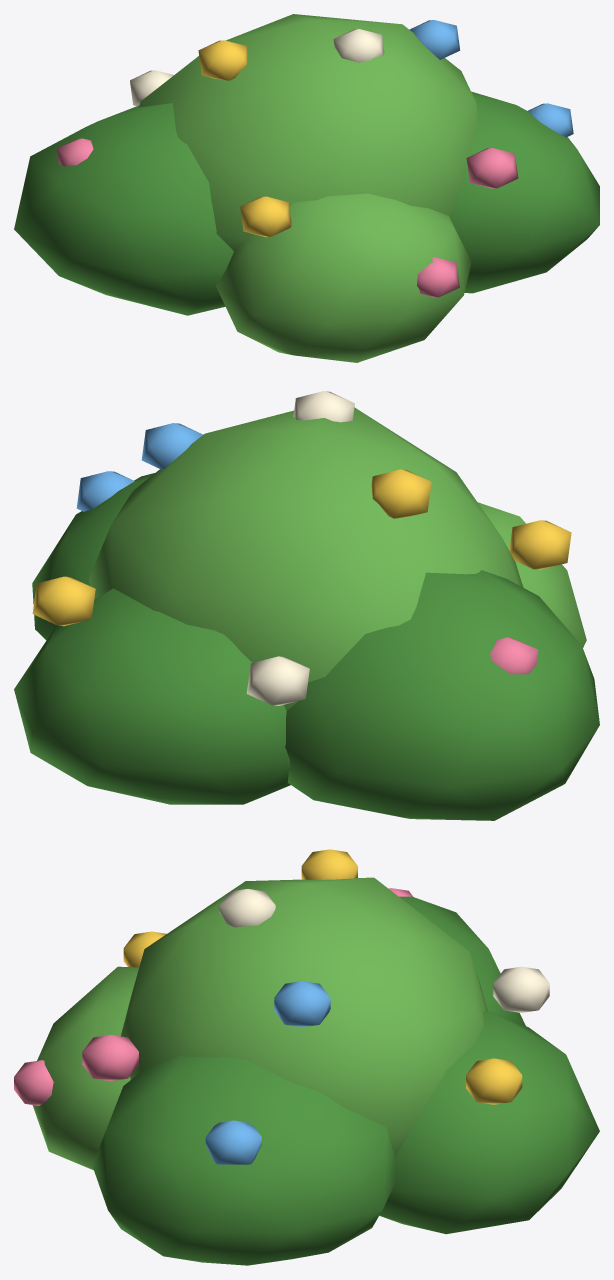
File: bush.glb
3 views of the same model, one above another, from view 1: azimuth 30°, elevation 25°; view 2: azimuth 150°, elevation 25°; view 3: azimuth 270°, elevation 25° (orthographic). The views are drawn at different scales.
Visible parts, largest first — view 1: Part_BushTop, Part_BushMid, Part_FlowerPink, Part_FlowerYellow, Part_FlowerBlue, Part_FlowerCream; view 2: Part_BushMid, Part_BushTop, Part_FlowerYellow, Part_FlowerCream, Part_FlowerBlue, Part_FlowerPink; view 3: Part_BushMid, Part_BushTop, Part_FlowerYellow, Part_FlowerBlue, Part_FlowerCream, Part_FlowerPink.
Boxes of the visible parts, x1,y1,x2,y2 form: Part_BushTop: (139,14,477,362); Part_BushMid: (14,91,599,315); Part_FlowerPink: (57,138,518,297); Part_FlowerYellow: (198,40,291,237); Part_FlowerBlue: (409,20,573,137); Part_FlowerCream: (130,29,384,105); Part_BushMid: (14,473,599,820); Part_BushTop: (89,407,586,710); Part_FlowerYellow: (32,469,571,626); Part_FlowerCream: (246,391,354,705); Part_FlowerBlue: (76,423,202,511); Part_FlowerPink: (490,637,538,674); Part_BushMid: (92,896,599,1265); Part_BushTop: (32,877,487,1170); Part_FlowerYellow: (123,849,522,1104); Part_FlowerBlue: (205,981,330,1164); Part_FlowerCream: (219,889,549,1012); Part_FlowerPink: (14,888,413,1105).
Size of the model in its own units: 1.88 by 1.01 by 1.71.
